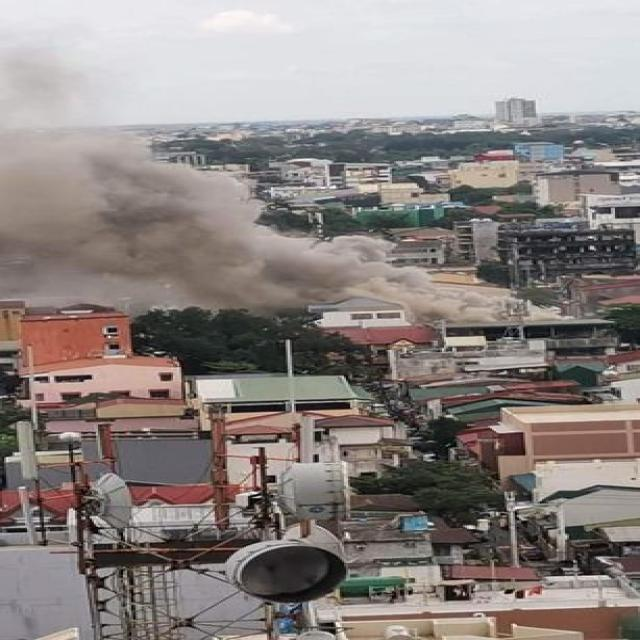Smoke: (0, 116, 554, 327)
